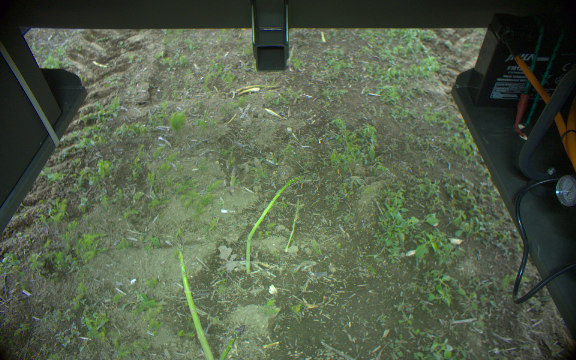aspa: (246, 174, 304, 267), (172, 235, 215, 360), (283, 197, 304, 254), (217, 323, 247, 360)
